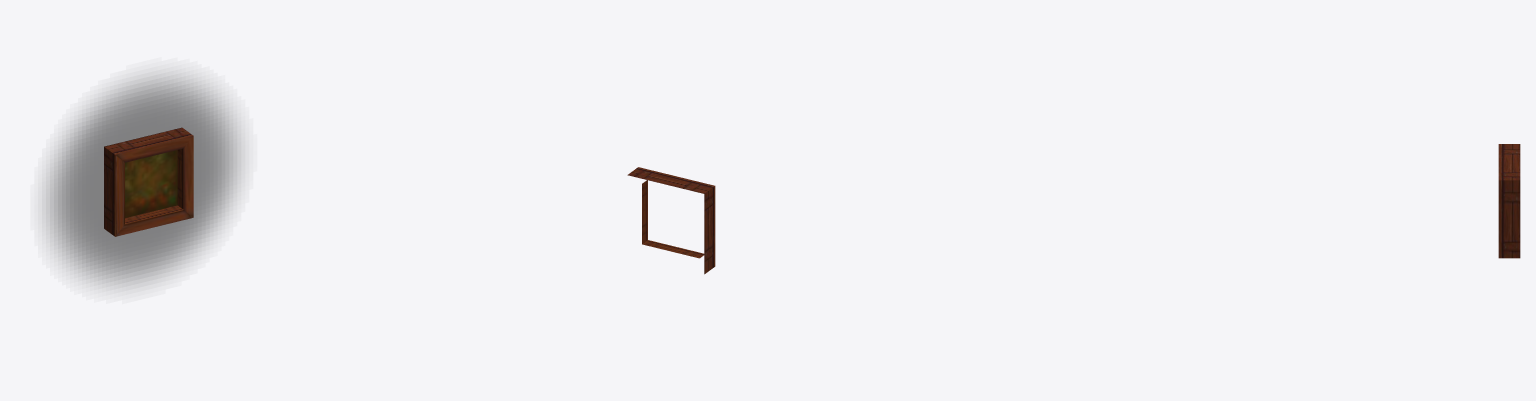
File: prop_tree_large_woodbox_ur.glb
The picture shows the model from 3 angles, left to right: view 1: azimuth 30°, elevation 25°; view 2: azimuth 150°, elevation 25°; view 3: azimuth 270°, elevation 25°; orthographic projection. The views are drawn at different scales.
Parts seen in each view (by area): view 1: shadow_large_woodbox_ur, box3_top_1; view 2: box3_top_1; view 3: box3_top_1.
Part boxes in pixels (x1,y1,x2,y2): shadow_large_woodbox_ur: [46, 74, 240, 287]; box3_top_1: [104, 127, 193, 236]; box3_top_1: [627, 167, 715, 274]; box3_top_1: [1498, 144, 1520, 258].
Bounding box in the file's own units: 16.89 × 16.89 × 29.25.
Materials: 4 (4 with a texture image).
